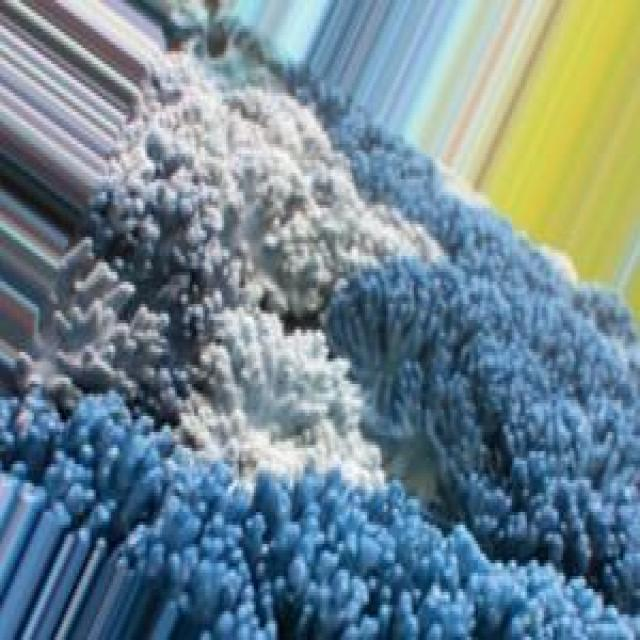Bleached: (166, 48, 441, 325), (181, 309, 385, 478)
Healthy: (309, 3, 640, 614), (2, 387, 640, 640)
